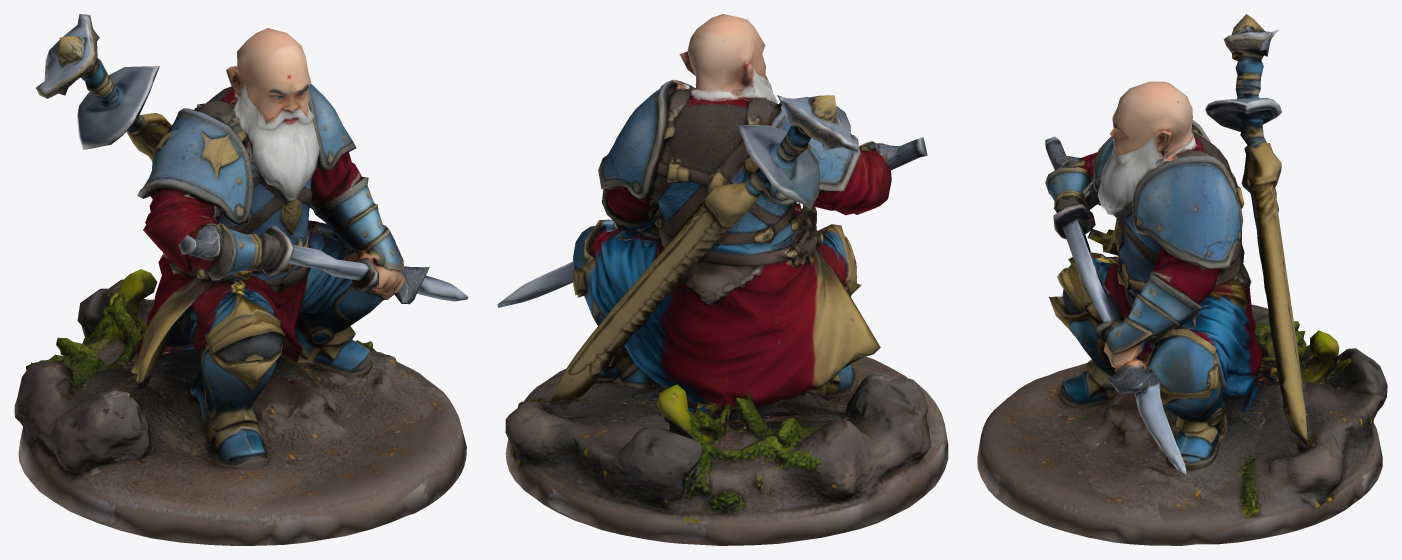
Rendered from Gnomanite.glb.
3 renders of one model, left to right at view 1: azimuth 30°, elevation 25°; view 2: azimuth 150°, elevation 25°; view 3: azimuth 270°, elevation 25°, orthographic. The views are drawn at different scales.
Visible parts, largest first — view 1: Mesh1.0; view 2: Mesh1.0; view 3: Mesh1.0.
Boxes of the visible parts, <box> form: Mesh1.0: <box>14,14,468,545</box>; Mesh1.0: <box>497,14,948,545</box>; Mesh1.0: <box>977,14,1387,545</box>.
Size of the model in its own units: 1.91 by 1.84 by 1.77.
1 material, 1 textured.
